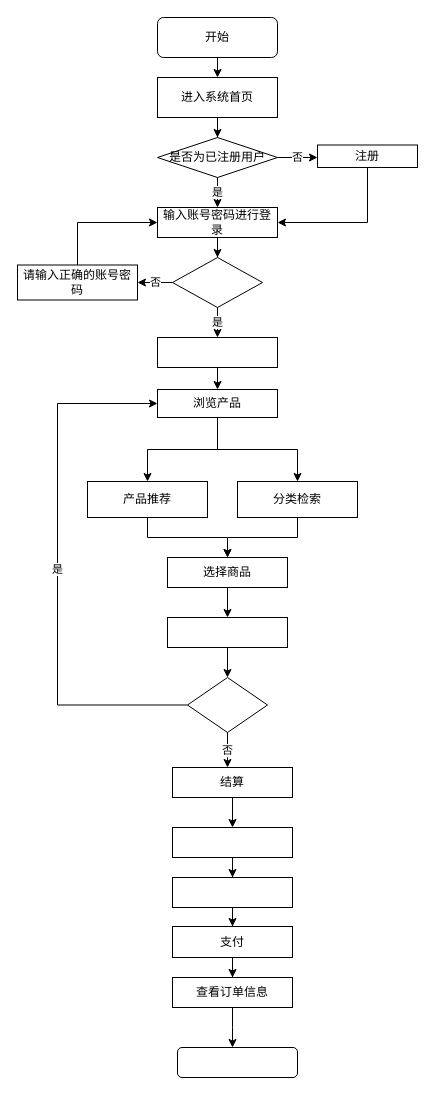
The diagram is 435 pixels wide and 1095 high, and some of its shapes have lost their labels. Here are the shapes that lost their labels. From the top down, the centre of each, then its label:
the point at 217,282: 密码是否正确
the point at 217,352: 登录成功
the point at 227,632: 加入购物车
the point at 227,704: 继续购物
the point at 232,842: 选择收货信息
the point at 232,892: 提交订单
the point at 237,1062: 结束
